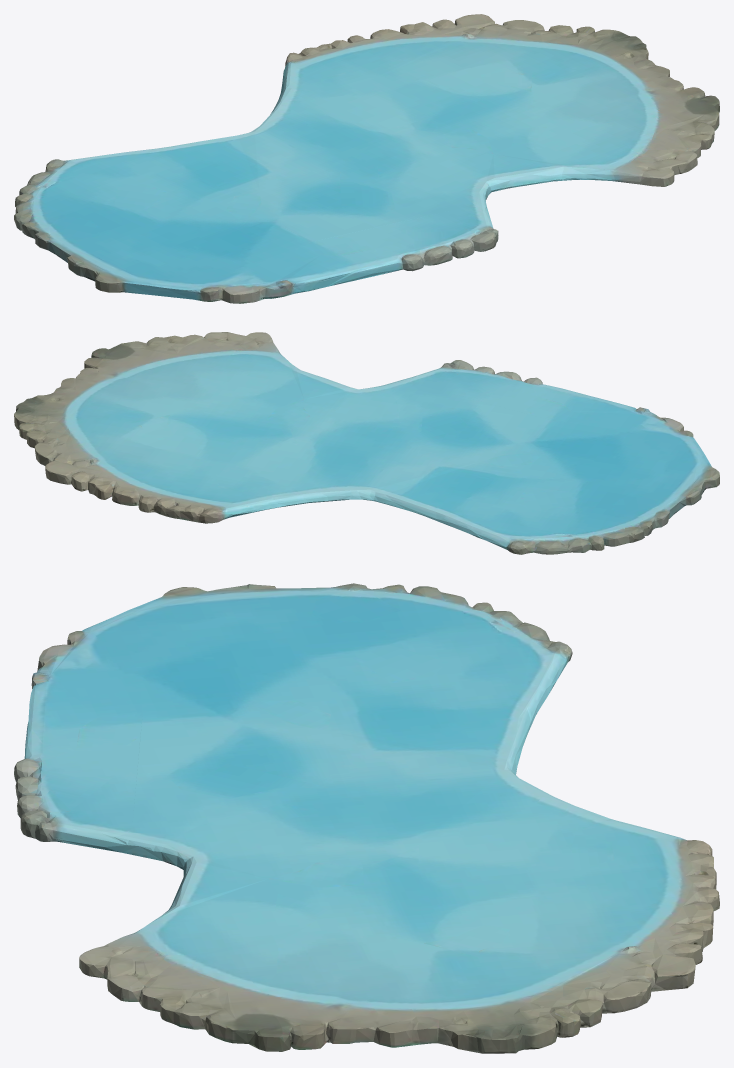
Rendered from shadow_pool.glb.
The picture shows the model from 3 angles, top to bottom: view 1: azimuth 30°, elevation 25°; view 2: azimuth 150°, elevation 25°; view 3: azimuth 270°, elevation 25°; orthographic projection. The views are drawn at different scales.
Parts seen in each view (by area): view 1: world; view 2: world; view 3: world.
Boxes of the visible parts, x1,y1,x2,y2 form: world: [14, 14, 719, 303]; world: [14, 332, 719, 554]; world: [14, 583, 719, 1053].
Bounding box in the file's own units: 1 × 0.0211 × 0.6539.
1 material, 1 textured.
